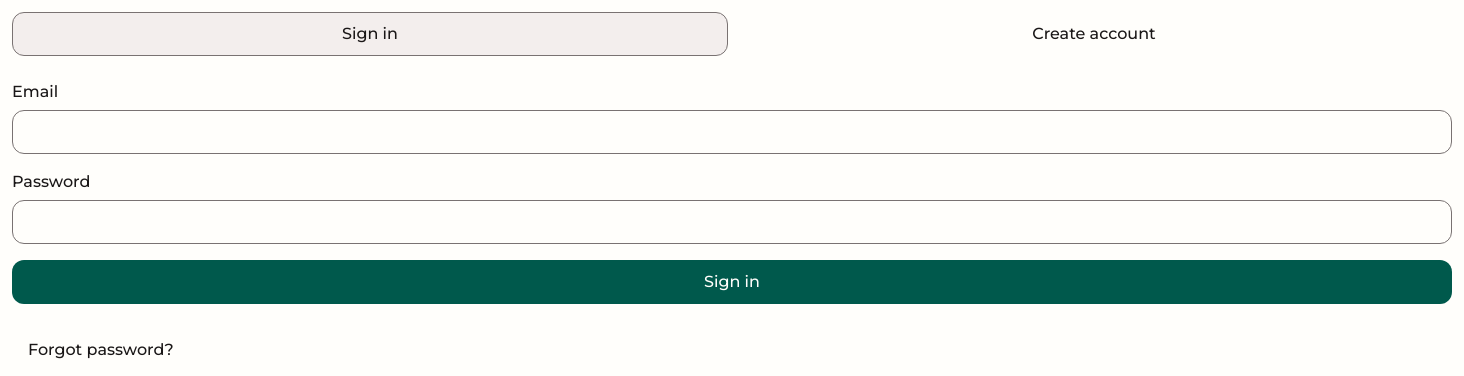
Scenario: LoginForm › shows sign-up problems next to their fields
Click the tab "Create account" at (1094, 34), box left=736, top=12, right=1452, bottom=56
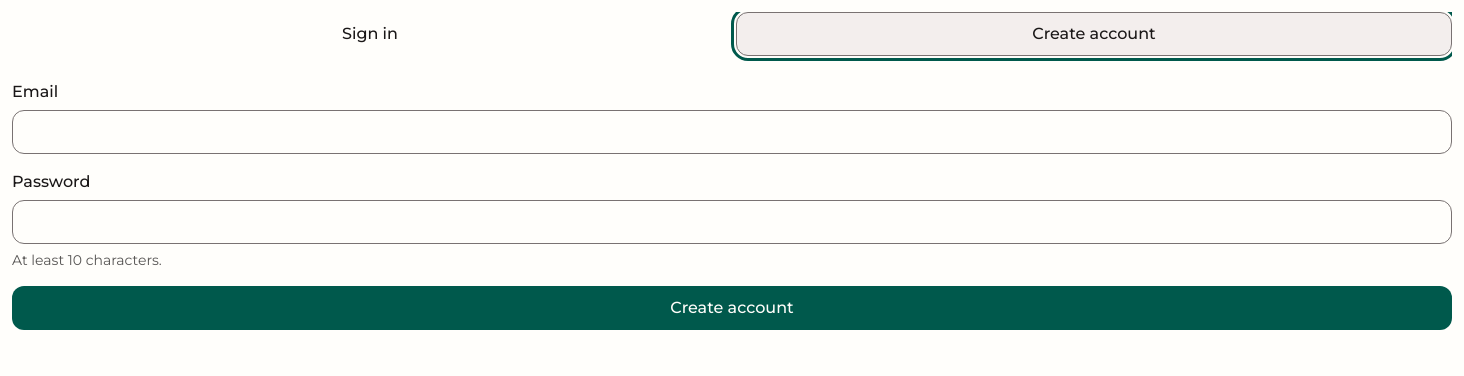
Type "owner@example.com" into the field labelled "Email" at (732, 132), box left=12, top=110, right=1452, bottom=154
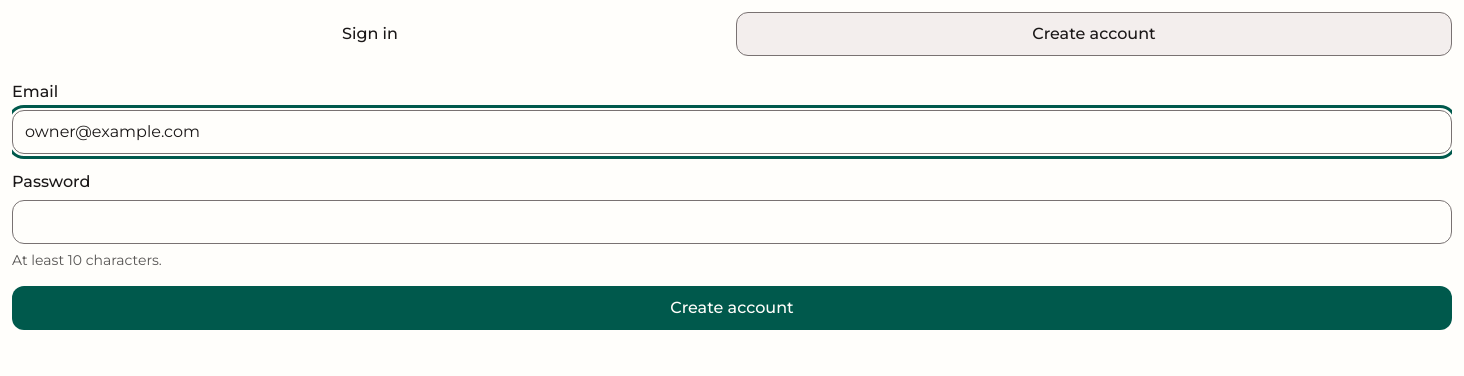
Type "password12" into the password field labelled "Password" at (732, 222), box left=12, top=200, right=1452, bottom=244
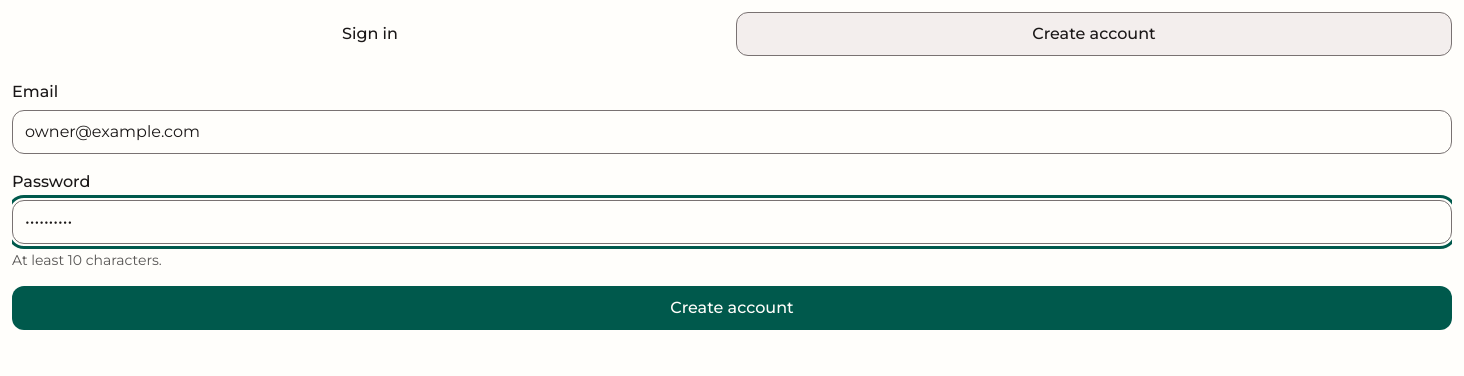
Click the button "Create account" at (732, 308), box left=12, top=286, right=1452, bottom=330
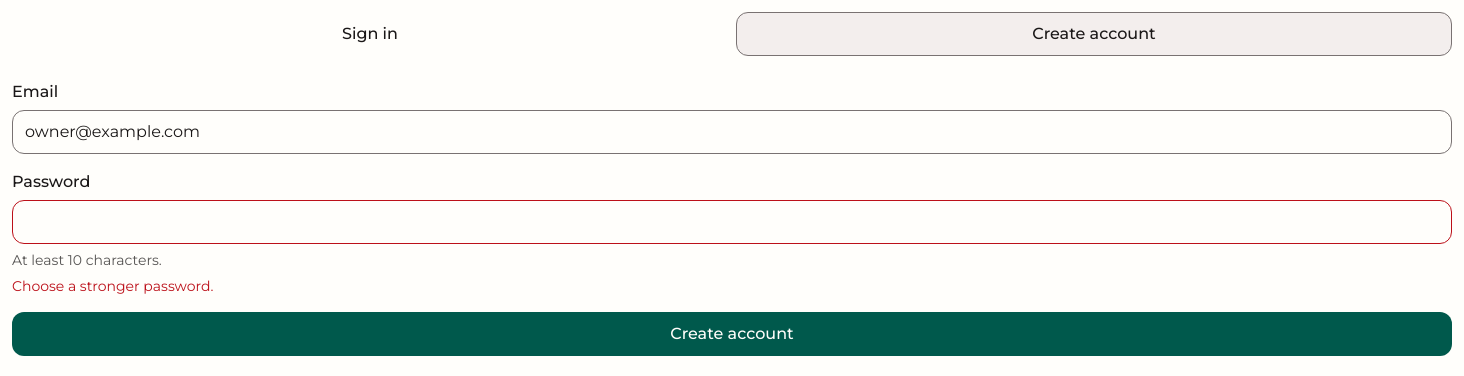
Now the text "Choose a stronger password." is shown, box left=12, top=277, right=213, bottom=295
